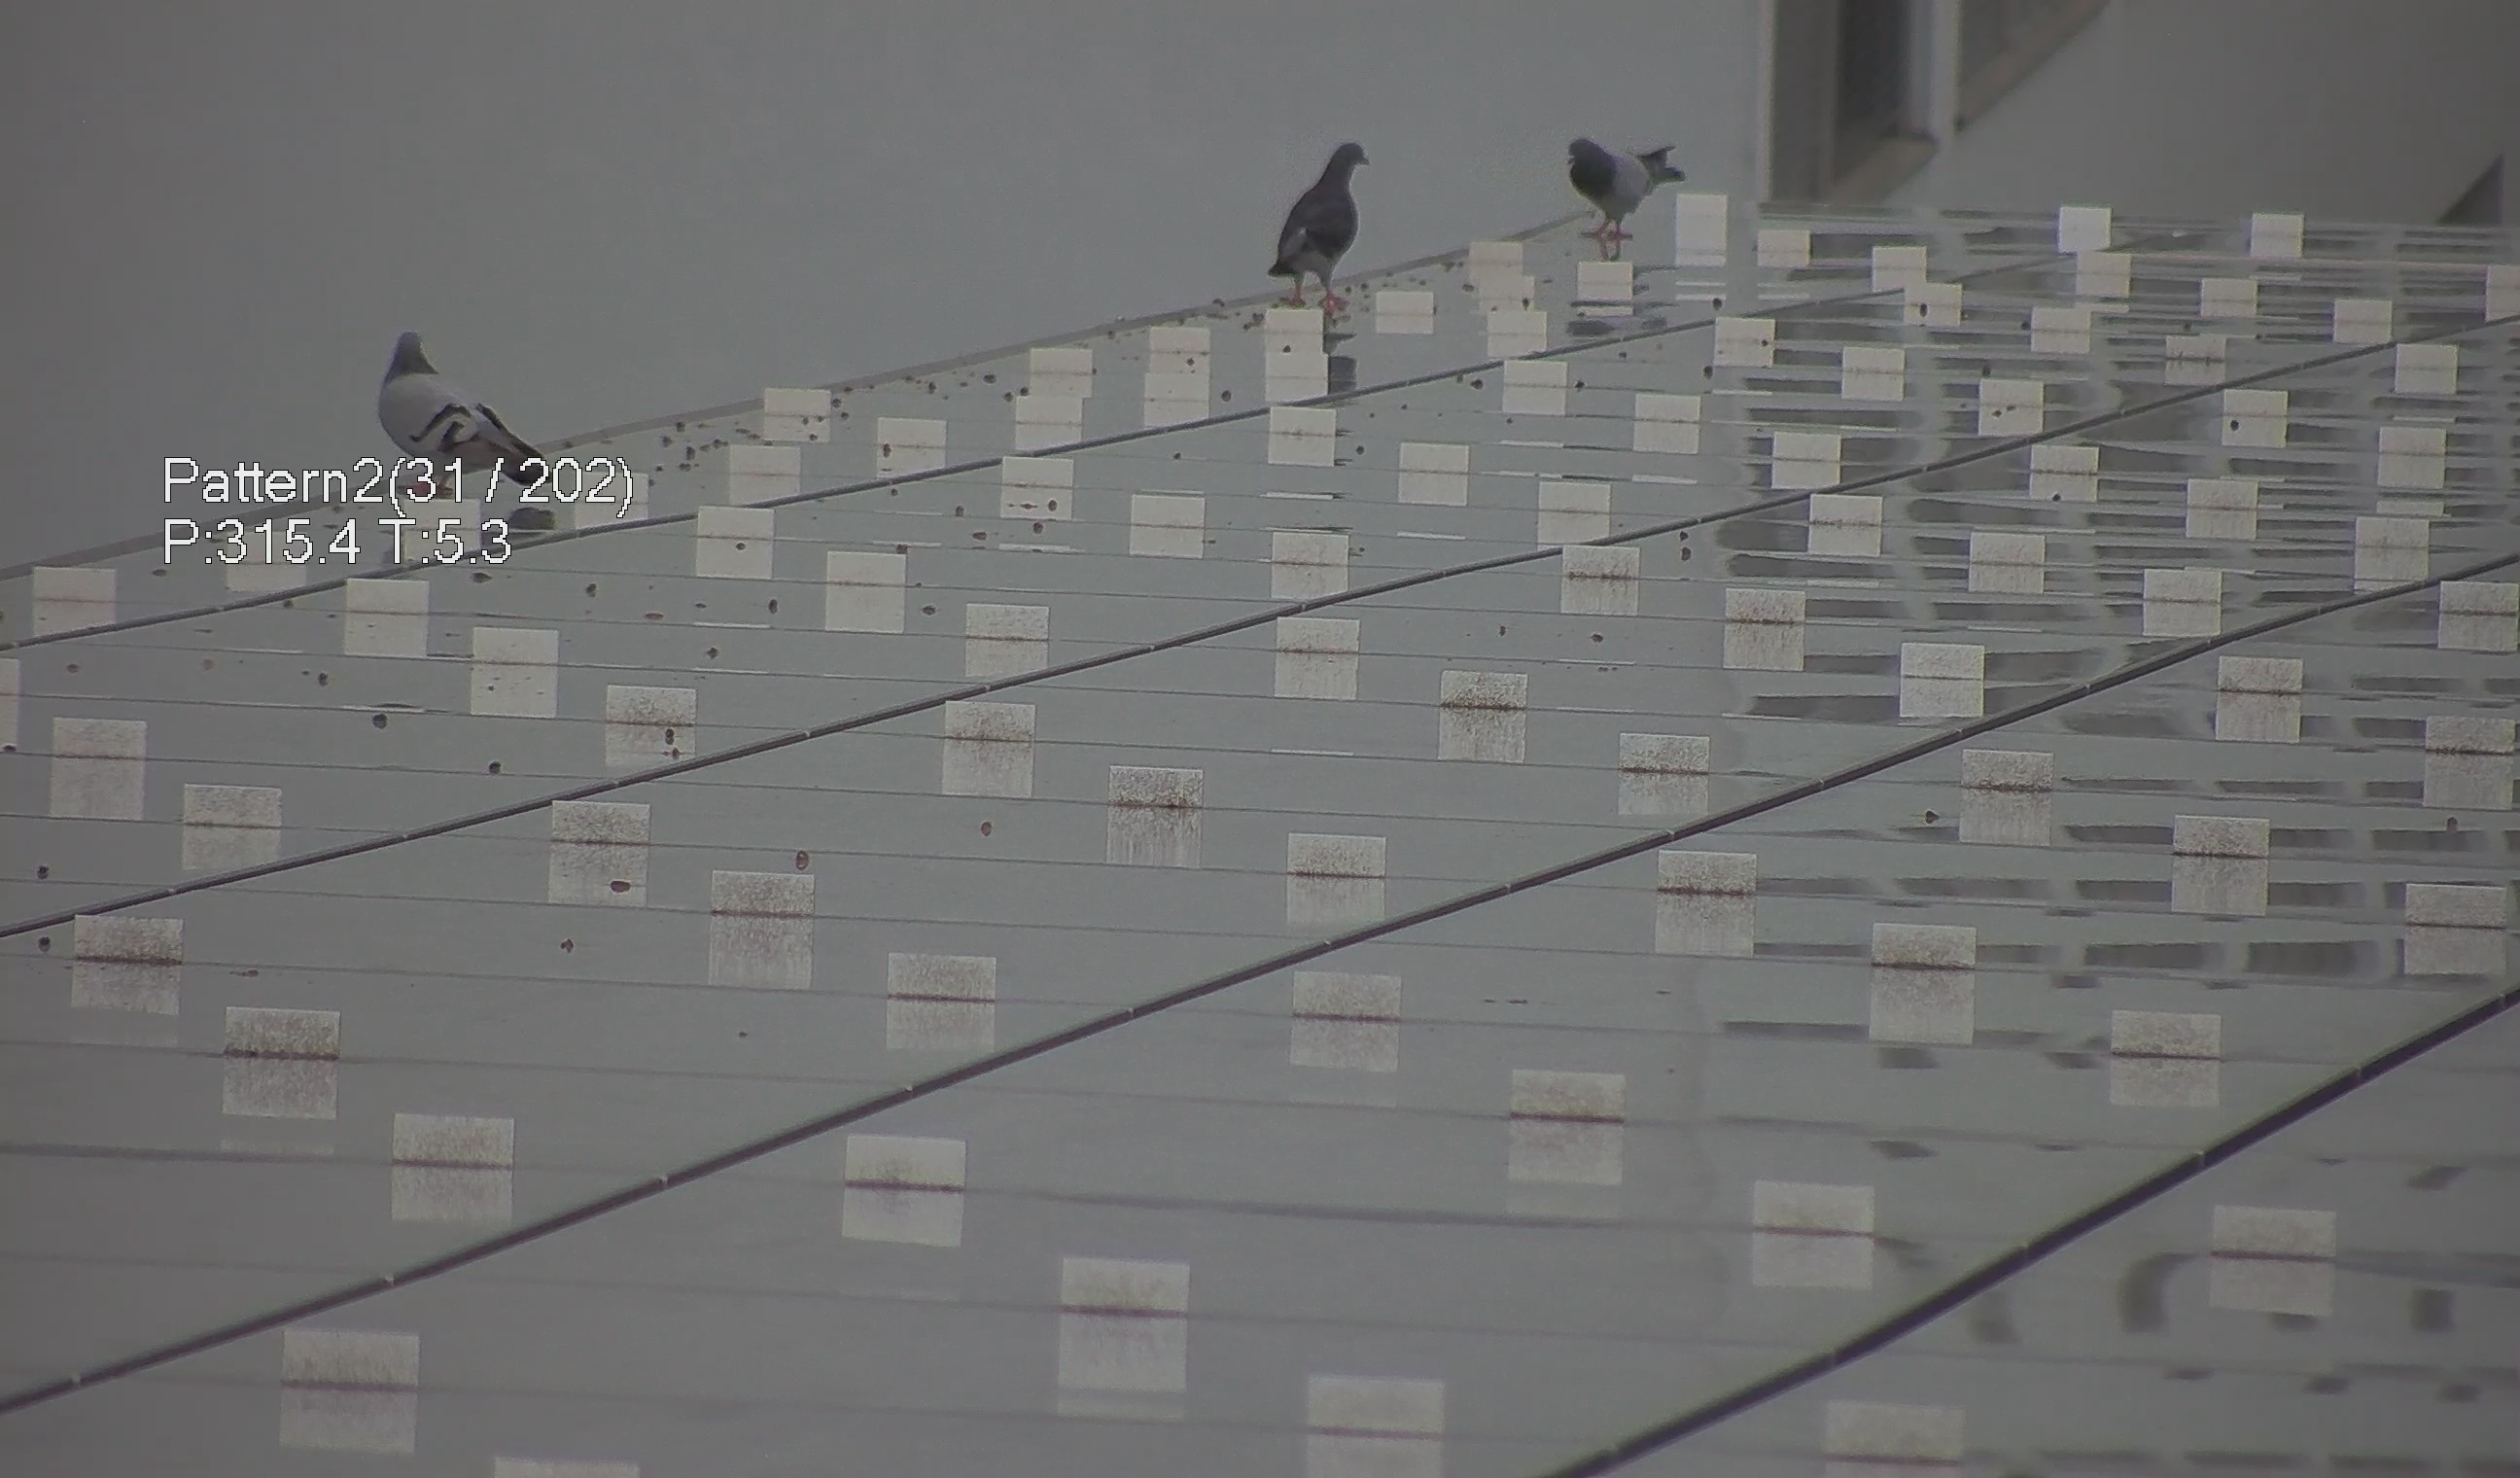Pigeon: (355, 311, 557, 489), (1259, 127, 1375, 297), (1560, 114, 1699, 248)
